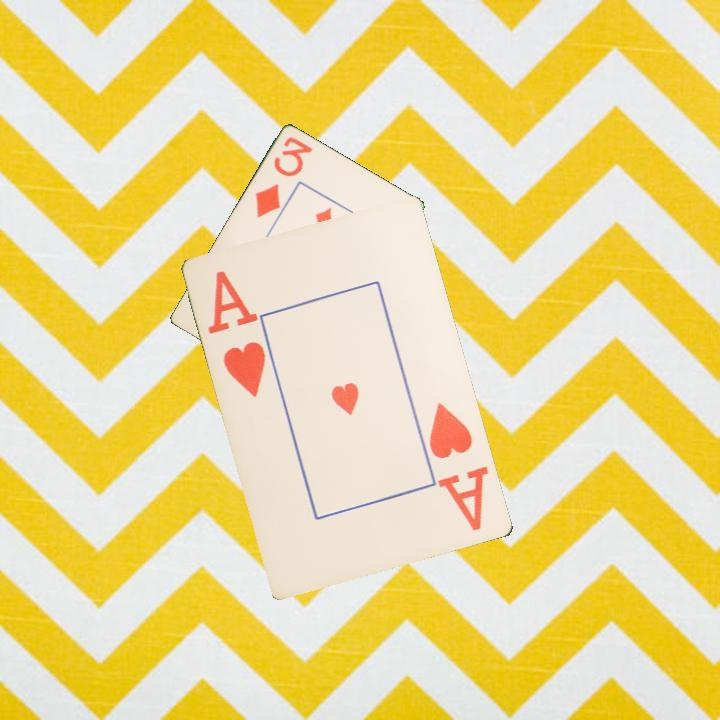3d: (252, 133, 316, 221)
Ah: (426, 399, 492, 534), (205, 267, 270, 401)
